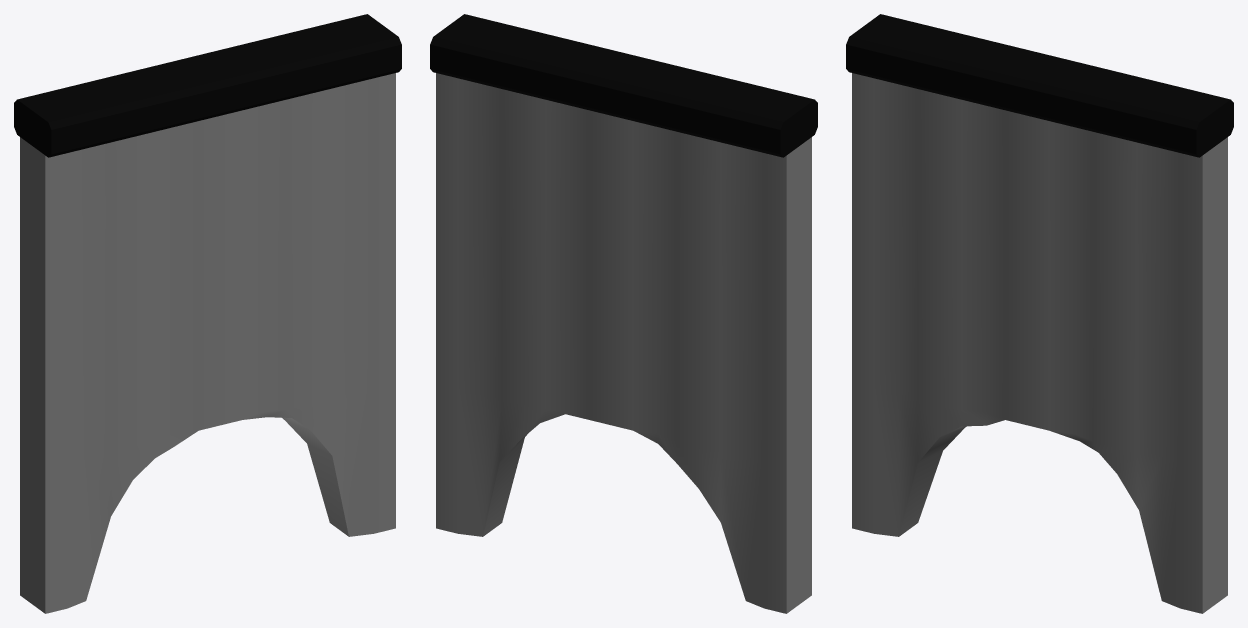
File: Fence.fbx
3 renders of one model, left to right at view 1: azimuth 30°, elevation 25°; view 2: azimuth 150°, elevation 25°; view 3: azimuth 330°, elevation 25°, orthographic.
Parts seen in each view (by area): view 1: pasted__pCube1; view 2: pasted__pCube1; view 3: pasted__pCube1.
Boxes of the visible parts, x1,y1,x2,y2 form: pasted__pCube1: [14, 14, 401, 613]; pasted__pCube1: [430, 14, 817, 613]; pasted__pCube1: [846, 14, 1233, 613].
Size of the model in its own units: 4 by 5.39 by 0.7371.
